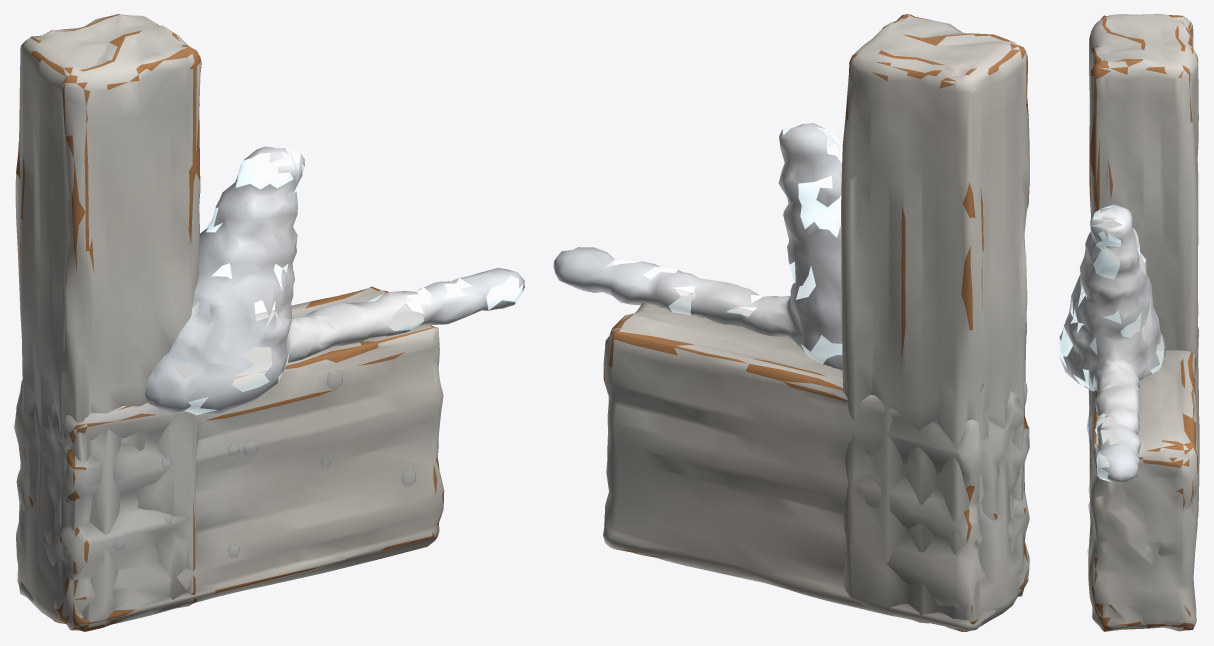
File: frost_window_cliff_corner.glb
3 renders of one model, left to right at view 1: azimuth 30°, elevation 25°; view 2: azimuth 150°, elevation 25°; view 3: azimuth 270°, elevation 25°, orthographic. The views are drawn at different scales.
Visible parts, largest first — view 1: frost_window_cliff_corner; view 2: frost_window_cliff_corner; view 3: frost_window_cliff_corner.
Part boxes in pixels (<box>): frost_window_cliff_corner: <box>14,14,524,631</box>; frost_window_cliff_corner: <box>553,14,1029,631</box>; frost_window_cliff_corner: <box>1058,14,1199,631</box>.
Bounding box in the file's own units: 17.62 × 20.25 × 5.45.
